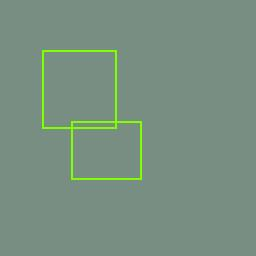Safety Vest: (42, 50, 117, 128), (71, 121, 141, 180)
